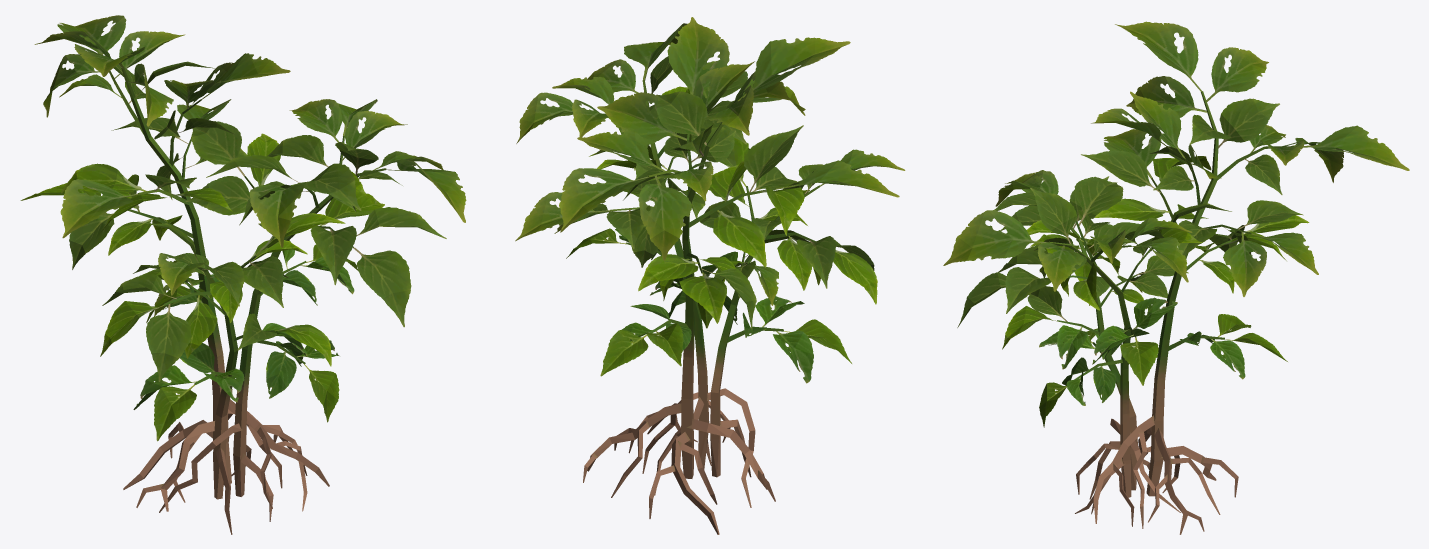
File: P_Herb_00243.obj
3 renders of one model, left to right at view 1: azimuth 30°, elevation 25°; view 2: azimuth 150°, elevation 25°; view 3: azimuth 270°, elevation 25°, orthographic. The views are drawn at different scales.
Bounding box in the file's own units: 0.6234 × 0.795 × 0.7886.
Materials: 1 (1 with a texture image).
